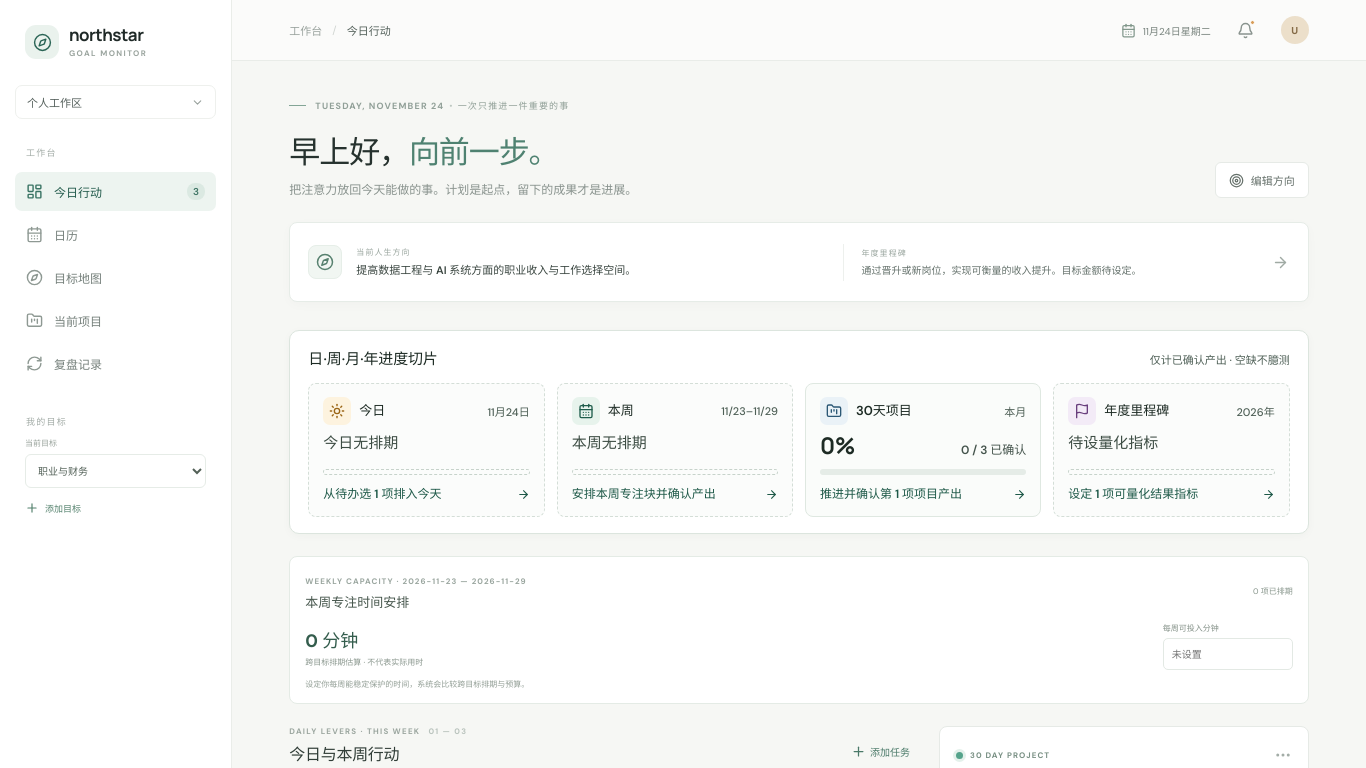
Test: Goal Monitor first-run flows › lets the user edit and save their long-term direction
Click the button "编辑方向".
click(1262, 180)  # box [1215, 162, 1309, 198]
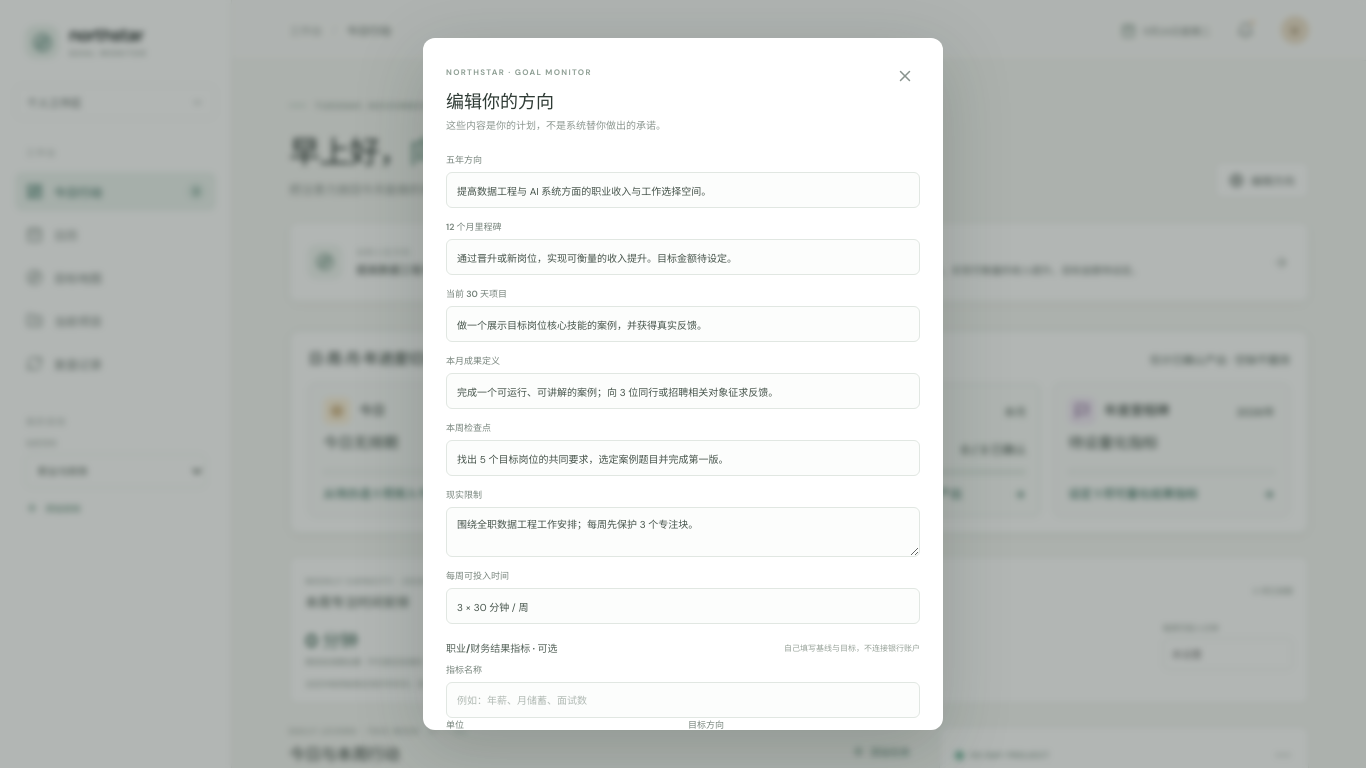
Replace the text in the field showing "提高数据工程与 AI 系统方面" with "五年内成为能独立交付 AI 数据产品的工程师。" at (683,190), box [446, 172, 920, 208]
(page scrolled)
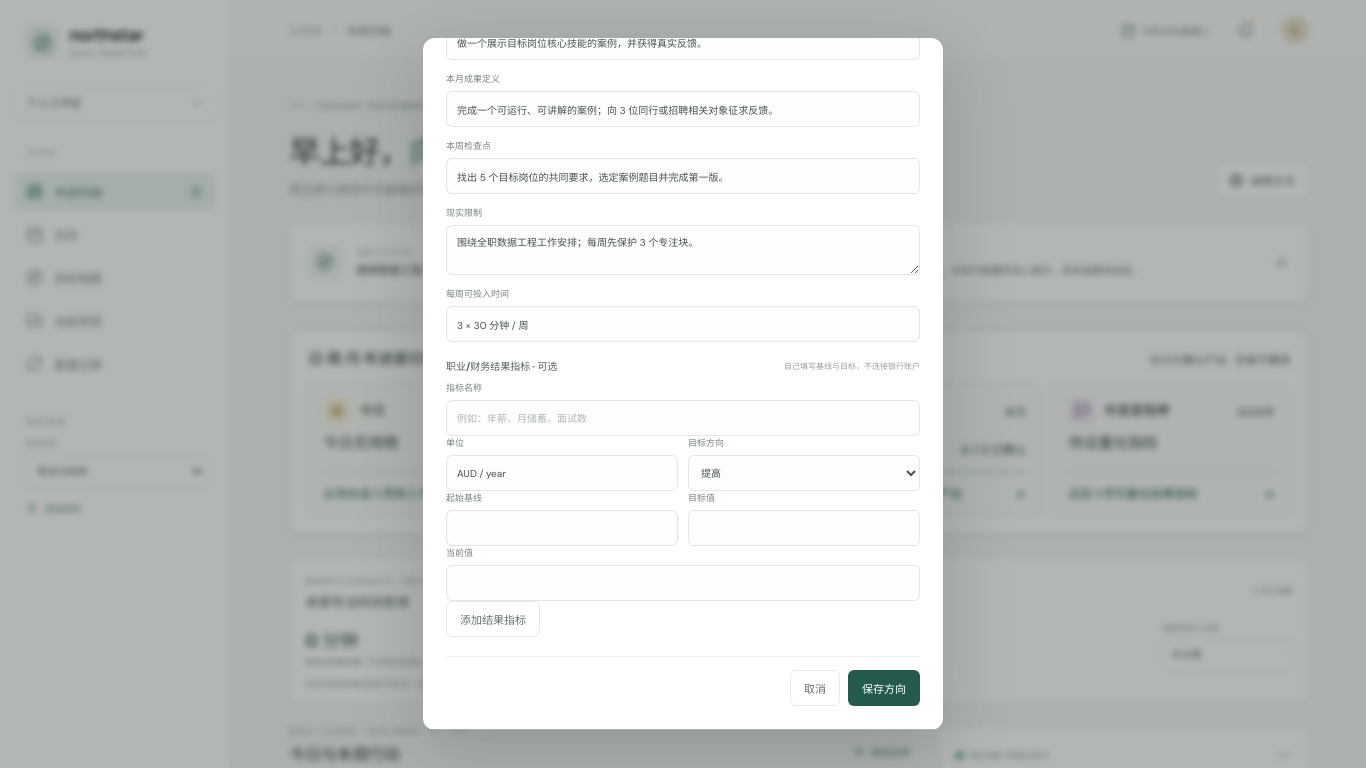
Click the button "保存方向".
click(884, 688)  # box [848, 670, 920, 706]
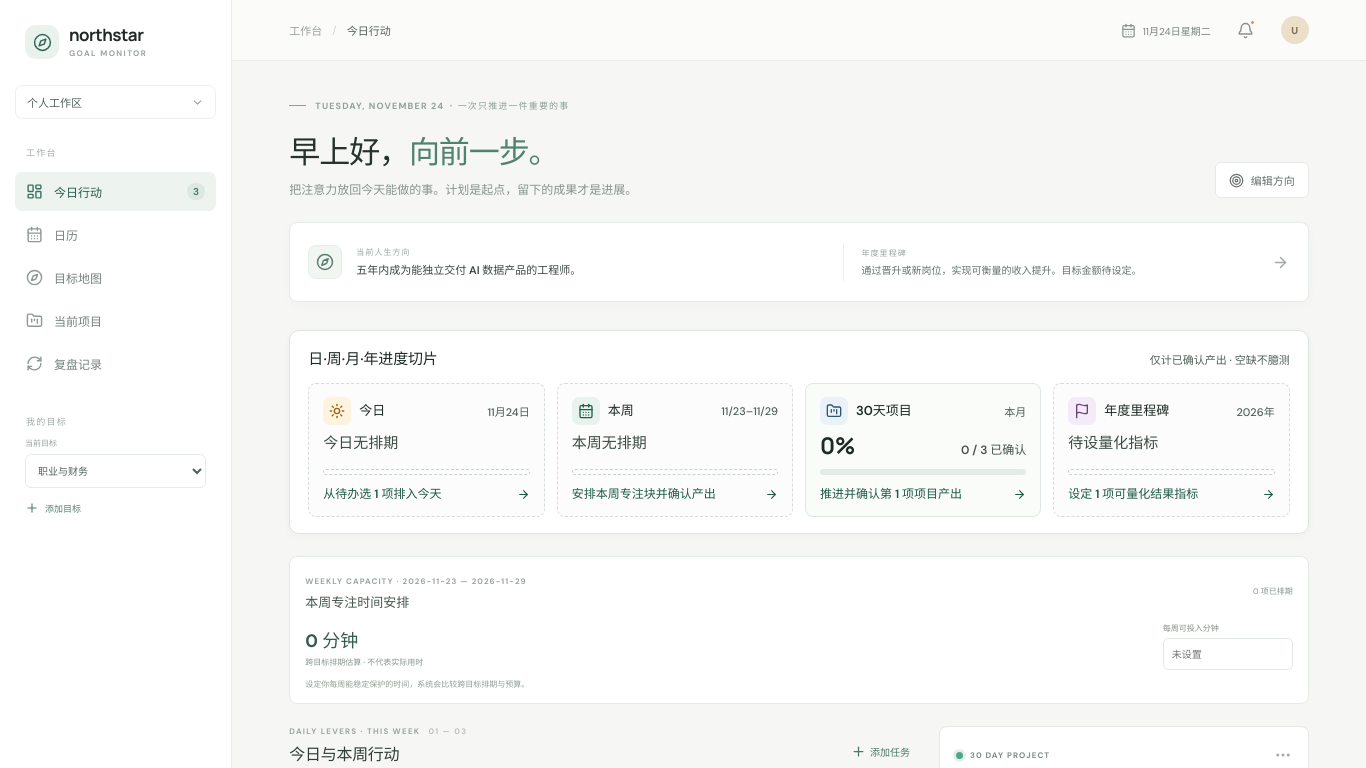
Result: the text "五年内成为能独立交付 AI 数据产品的工程师。" is shown at [356, 263, 581, 277]
